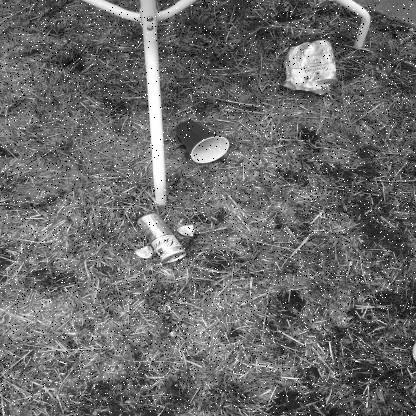metal: (136, 213, 186, 263)
plastic: (281, 40, 338, 95), (174, 120, 230, 164)
